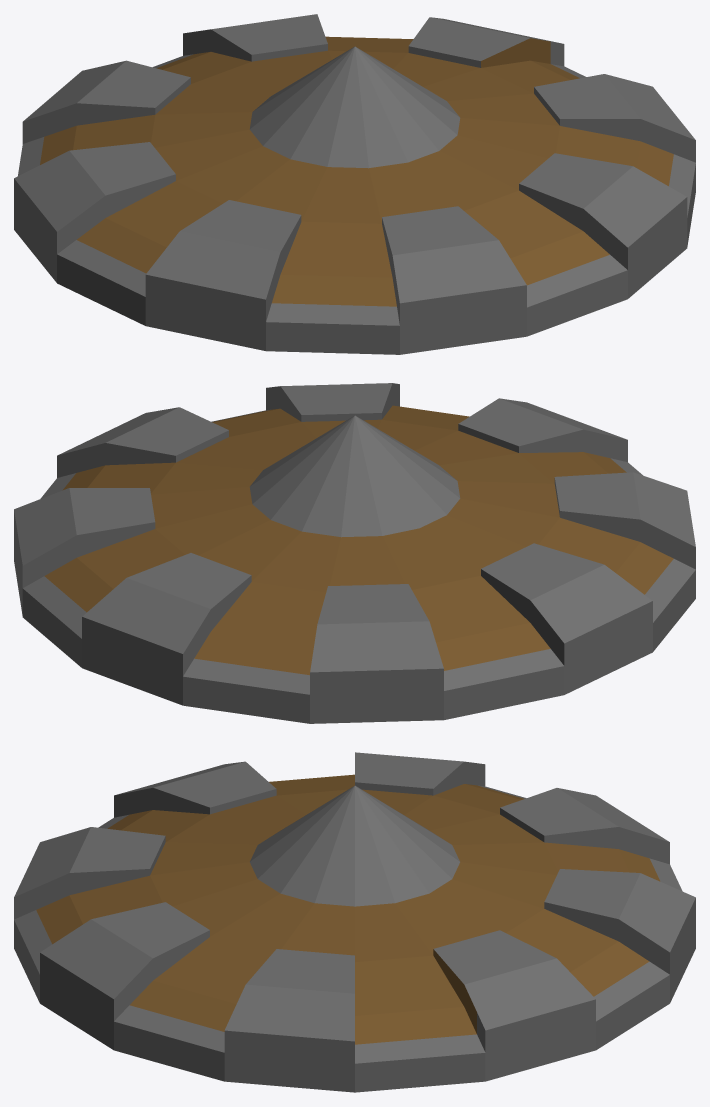
Rendered from Escudo Prop.fbx.
The picture shows the model from 3 angles, top to bottom: view 1: azimuth 30°, elevation 25°; view 2: azimuth 150°, elevation 25°; view 3: azimuth 270°, elevation 25°; orthographic projection.
Visible parts, largest first — view 1: Cylinder.064; view 2: Cylinder.064; view 3: Cylinder.064.
Boxes of the visible parts, left/top/right/bottom form: Cylinder.064: left=14, top=14, right=695, bottom=354; Cylinder.064: left=14, top=383, right=695, bottom=723; Cylinder.064: left=14, top=752, right=695, bottom=1092.
Bounding box in the file's own units: 402 × 164 × 402.
